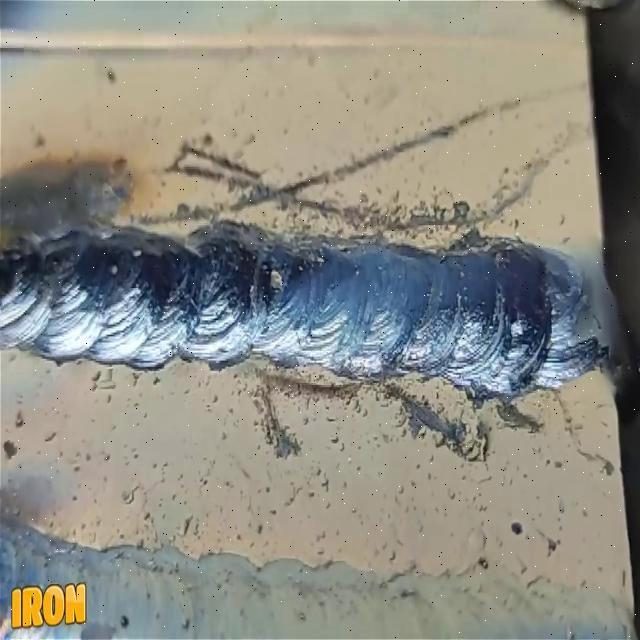Good Welding: (0, 222, 605, 398)
